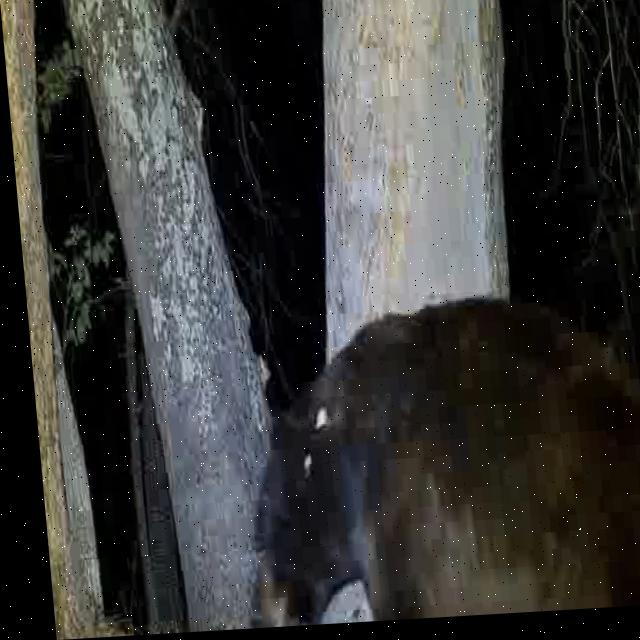bear face: (217, 290, 640, 631)
